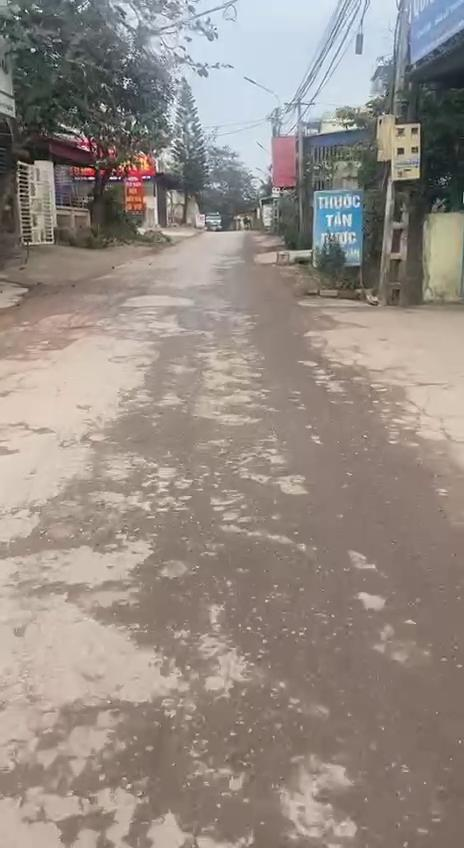pothole: (141, 703, 211, 848), (32, 506, 107, 550)
